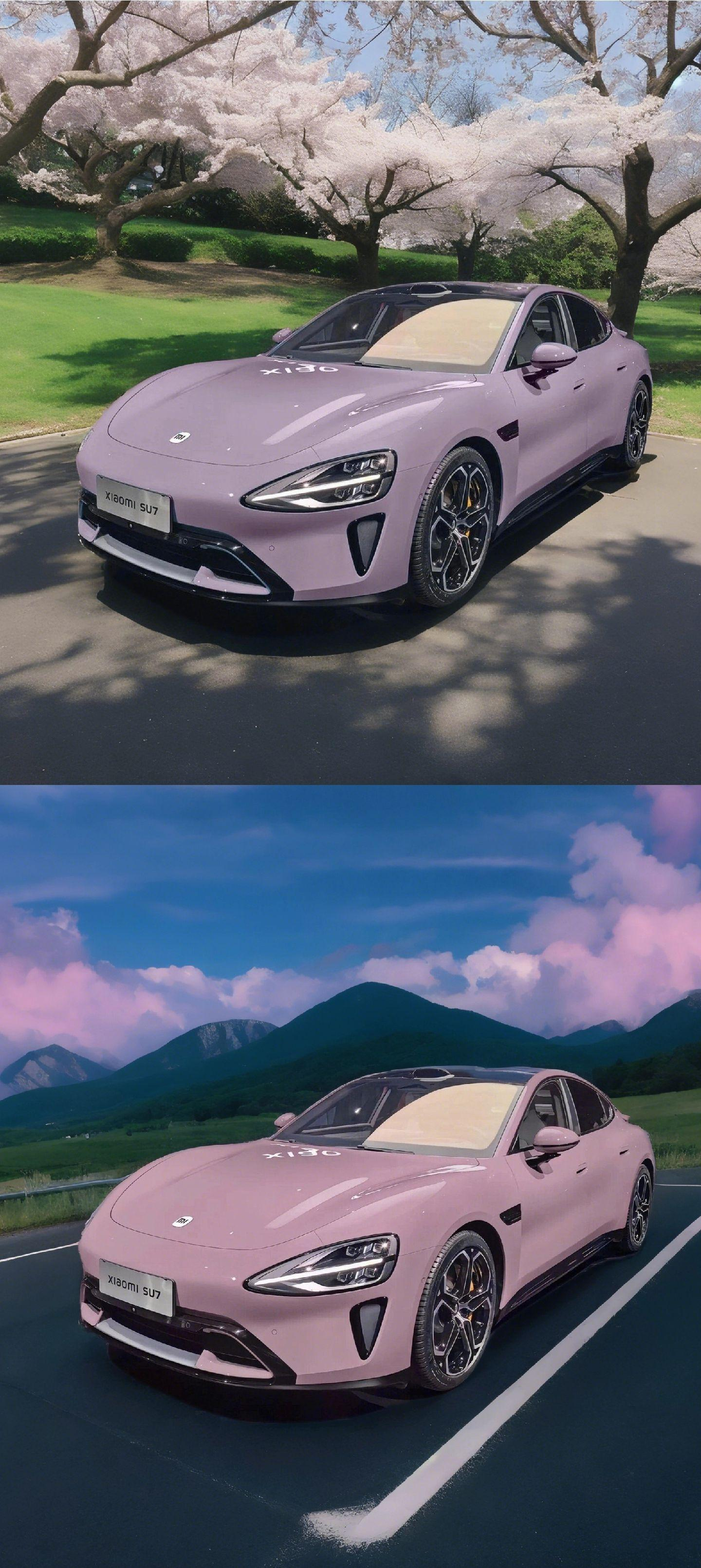su7: (76, 272, 640, 617), (84, 1058, 651, 1387)
